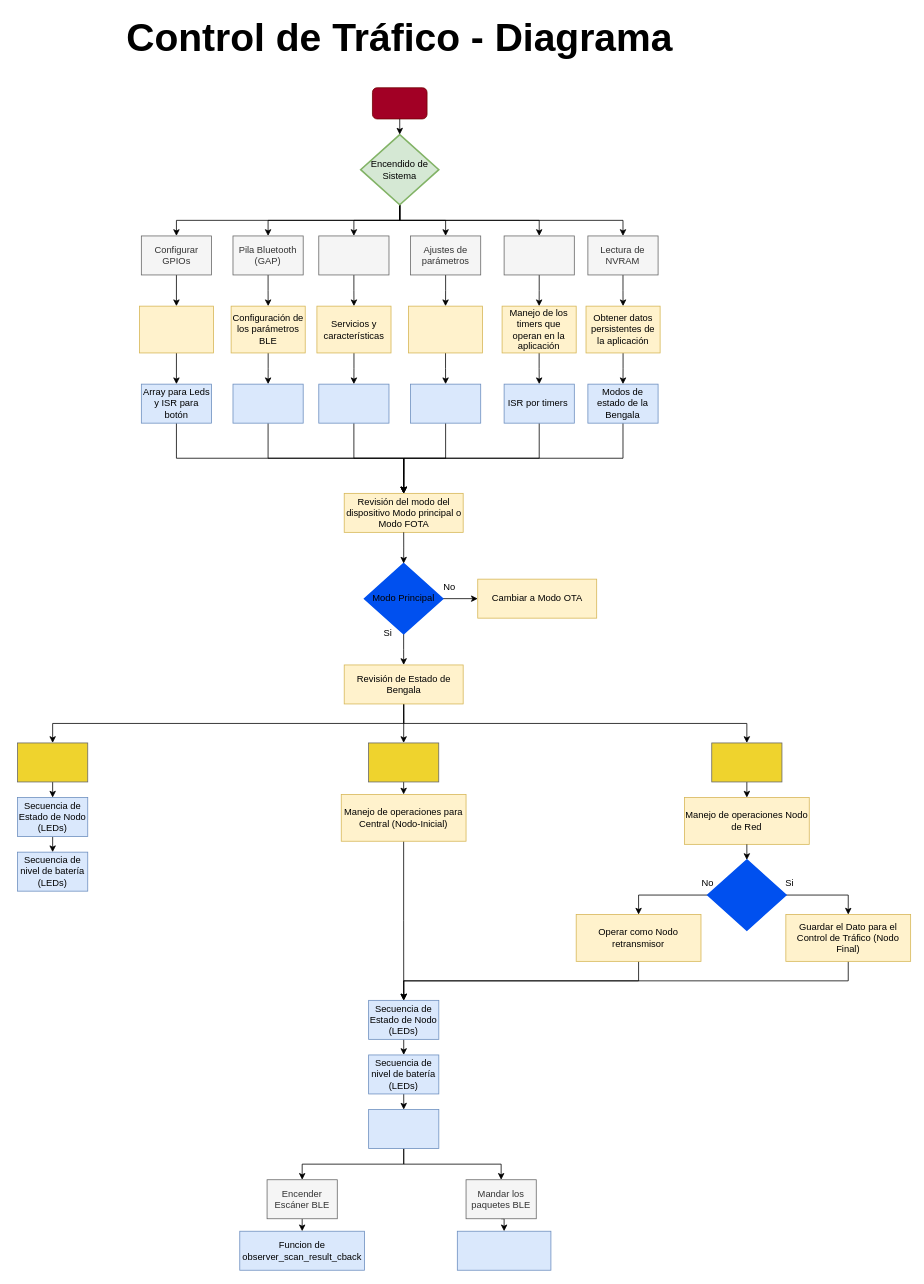
This 924x1284 diagram has some shape labels left out. Each missing label, with the box of its shape:
Base de Datos BLE (GATT): (318, 235, 389, 275)
Conexión y Desconexión: (318, 383, 389, 423)
Configuración de Timers: (503, 235, 574, 275)
Datos del dispositivo: (410, 383, 481, 423)
Funcion de mesh_advertising: (457, 1230, 551, 1270)
Inicio: (372, 87, 427, 119)
Manejo de salidas (LEDs) y entradas (botón): (139, 305, 213, 353)
Nodo Central: (368, 742, 439, 782)
Nodo de Red: (711, 742, 782, 782)
Nodo Final: (707, 859, 786, 931)
Nodo Independiente: (17, 742, 88, 782)
Potencia, escáner y Publicidad: (232, 383, 303, 423)
Secuencia de número de Nodo: (368, 1109, 439, 1149)
Variables y datos (BDA y Potencias): (408, 305, 483, 353)
